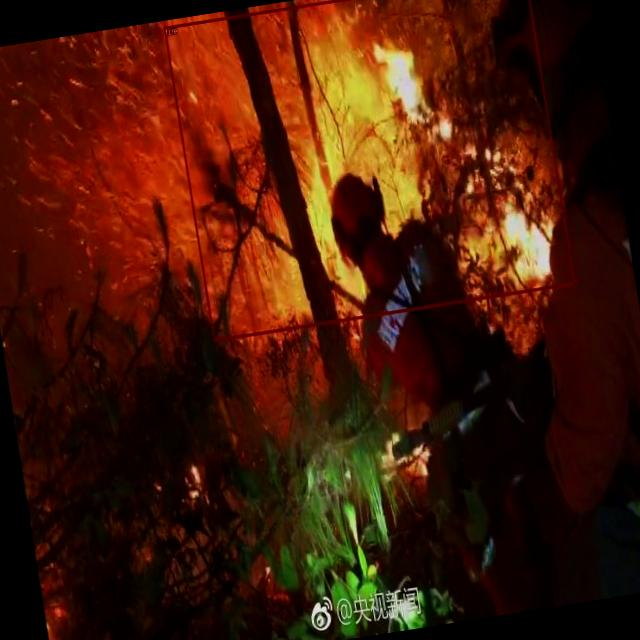fire: (164, 0, 575, 341)
